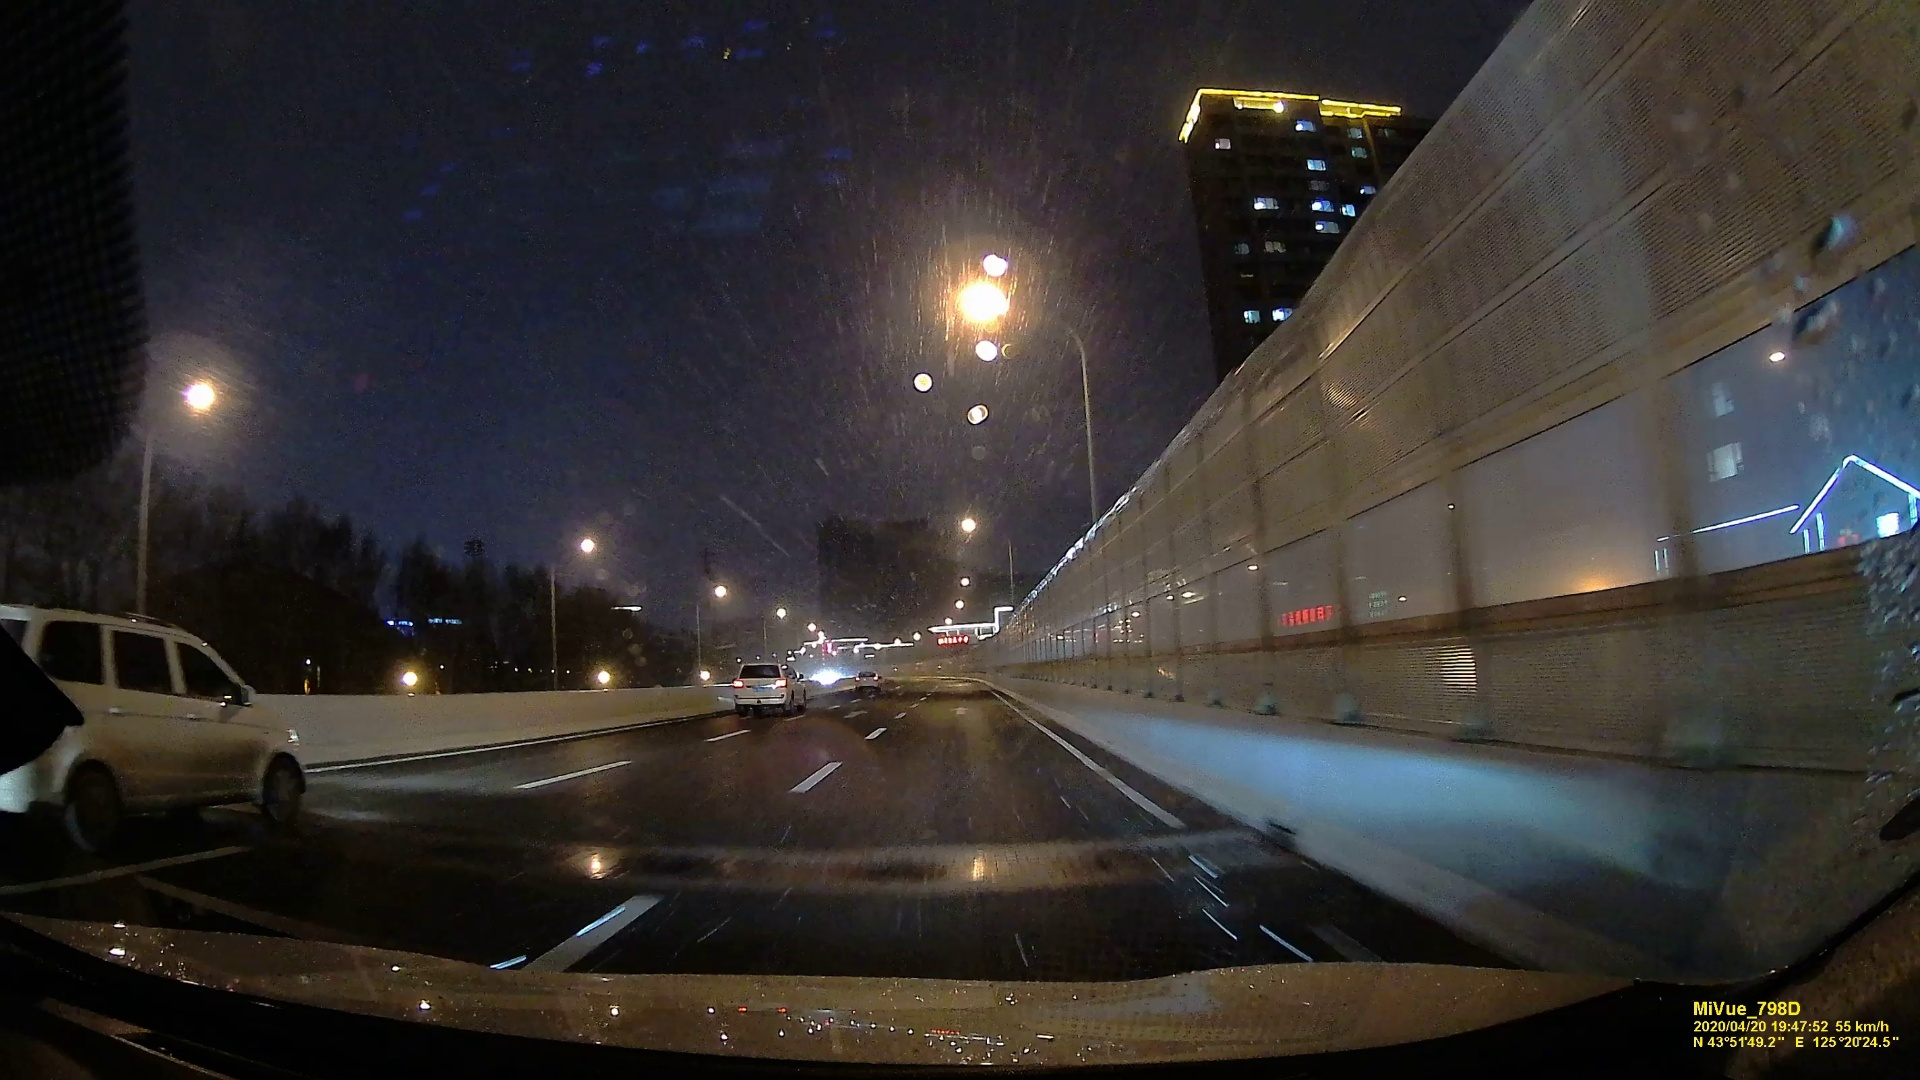minibus: (855, 670, 880, 690)
vehicle: (3, 603, 309, 853), (733, 659, 807, 712)
